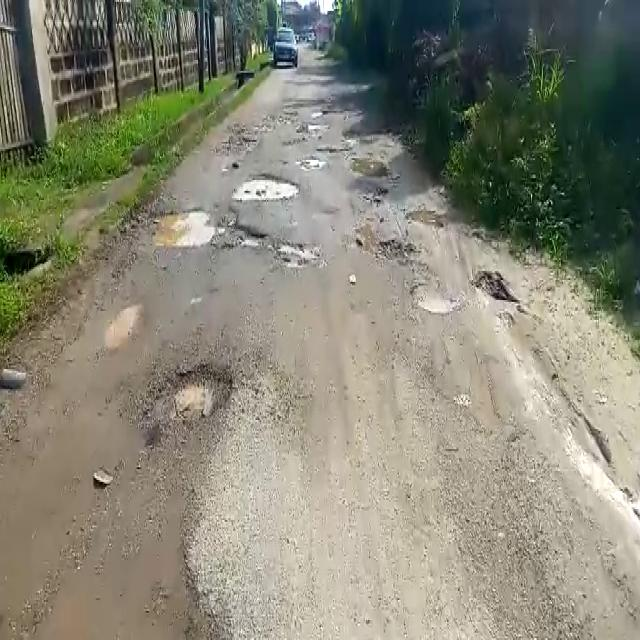Pothole: (141, 360, 237, 444), (150, 206, 268, 250), (230, 170, 301, 200), (409, 279, 458, 316), (273, 243, 322, 271)
